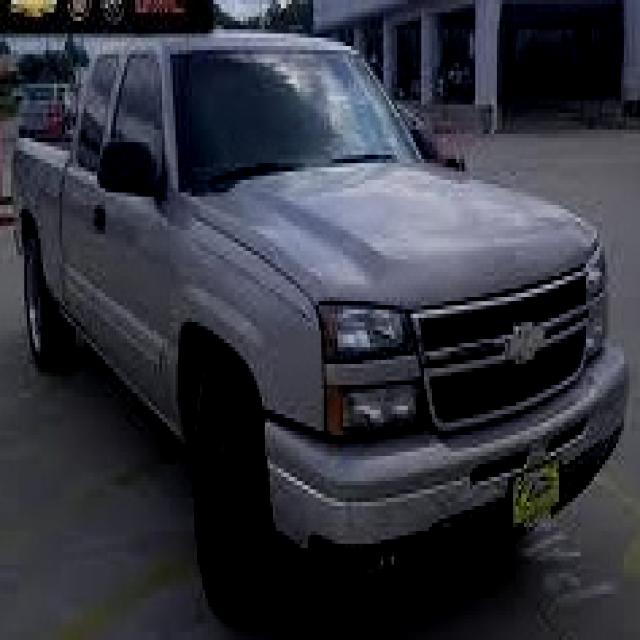CMT: (35, 22, 631, 614)
